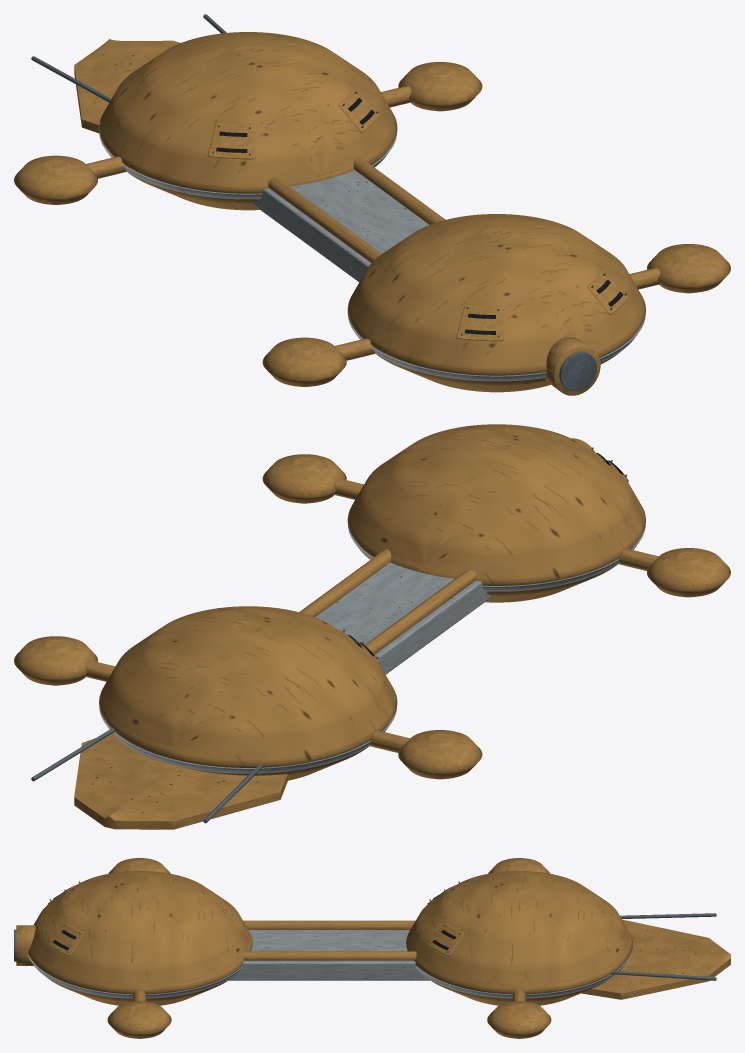
The picture shows the model from 3 angles, top to bottom: view 1: azimuth 30°, elevation 25°; view 2: azimuth 150°, elevation 25°; view 3: azimuth 270°, elevation 25°; orthographic projection. The views are drawn at different scales.
Parts seen in each view (by area): view 1: PrimaryHullAndArmour, ServiceAssemblies, RecessedMachinery, TrimAndFasteners; view 2: PrimaryHullAndArmour, TrimAndFasteners; view 3: PrimaryHullAndArmour, TrimAndFasteners, ServiceAssemblies, RecessedMachinery.
Boxes of the visible parts, x1,y1,x2,y2 form: PrimaryHullAndArmour: [14, 14, 730, 392]; ServiceAssemblies: [207, 89, 628, 341]; RecessedMachinery: [216, 98, 623, 395]; TrimAndFasteners: [99, 91, 645, 381]; PrimaryHullAndArmour: [14, 424, 730, 829]; TrimAndFasteners: [99, 426, 645, 773]; PrimaryHullAndArmour: [27, 858, 730, 1038]; TrimAndFasteners: [28, 881, 632, 998]; ServiceAssemblies: [47, 884, 463, 956]; RecessedMachinery: [14, 885, 455, 965].
Bounding box in the file's own units: 2.76 × 0.8125 × 4.91.
1 material, 1 textured.
